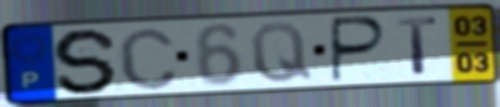6: (193, 20, 246, 90)
C: (115, 25, 181, 93)
P: (329, 14, 390, 84)
Q: (248, 20, 316, 85)
S: (50, 26, 123, 96)
T: (395, 15, 442, 76)
